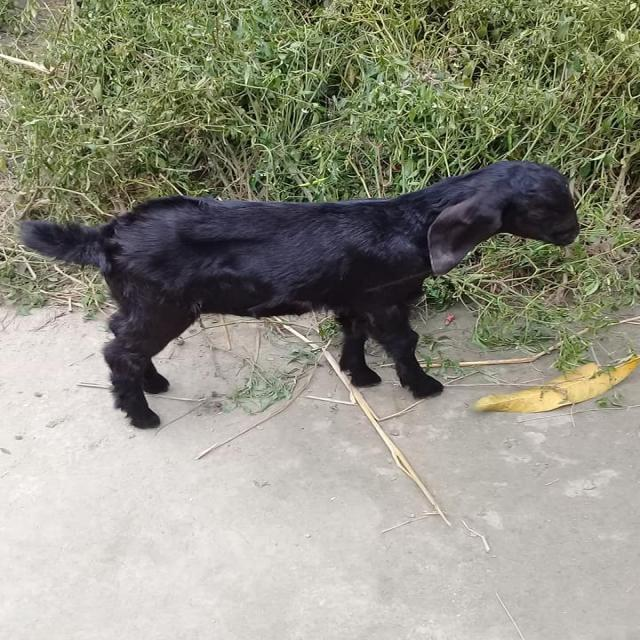Goat: (18, 159, 580, 429)
